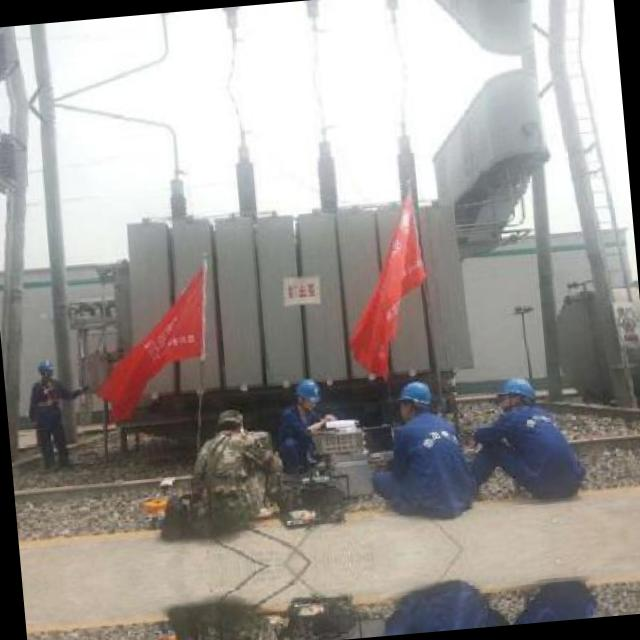helmet: (492, 372, 537, 412), (392, 376, 434, 418), (290, 370, 326, 410), (34, 356, 56, 384)
